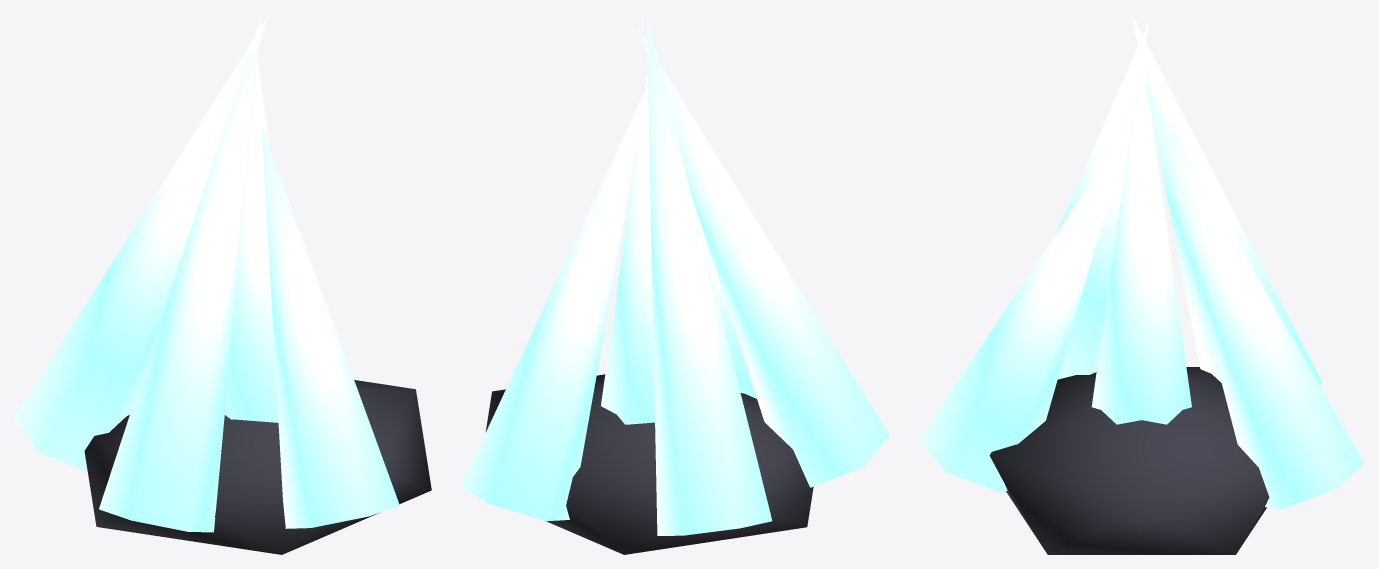
File: ice_crystal.glb
3 views of the same model, side by side, from view 1: azimuth 30°, elevation 25°; view 2: azimuth 150°, elevation 25°; view 3: azimuth 270°, elevation 25° (orthographic). The views are drawn at different scales.
Parts seen in each view (by area): view 1: ice_crystal; view 2: ice_crystal; view 3: ice_crystal.
Part boxes in pixels (left/top/right/bottom): ice_crystal: left=14, top=15, right=431, bottom=554; ice_crystal: left=460, top=15, right=889, bottom=554; ice_crystal: left=918, top=15, right=1364, bottom=554.
Size of the model in its own units: 1.36 by 1.92 by 1.5.
